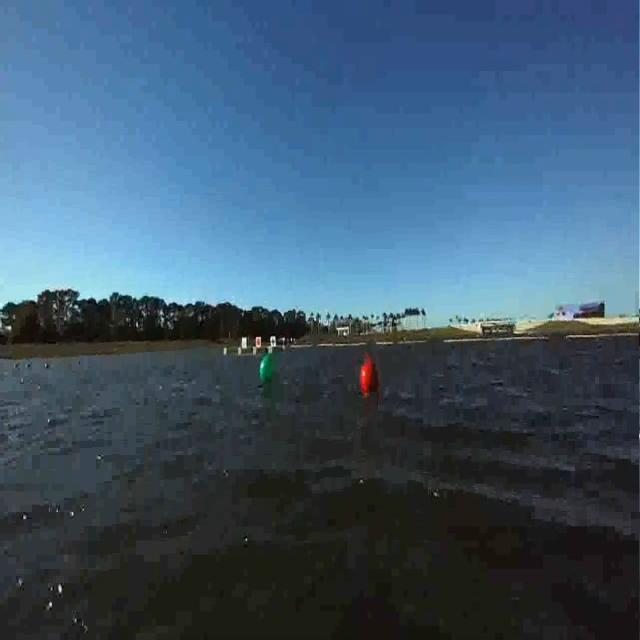green-buoy: (258, 352, 280, 395)
red-buoy: (356, 357, 380, 405)
